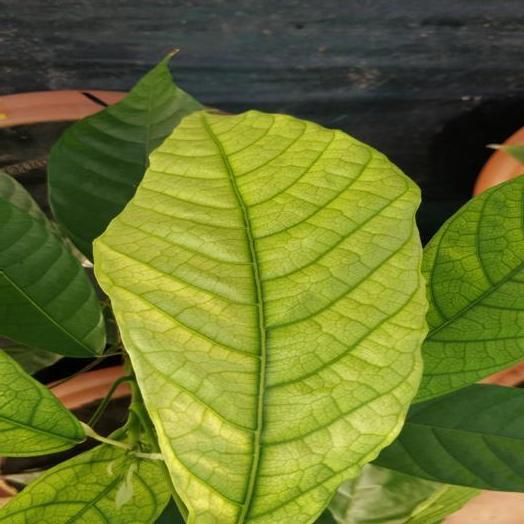Healthy Leaf: (48, 53, 203, 258), (0, 172, 105, 357), (374, 384, 523, 491)
Iron: (94, 111, 426, 523), (417, 176, 523, 399), (0, 445, 169, 523), (0, 351, 85, 455)
